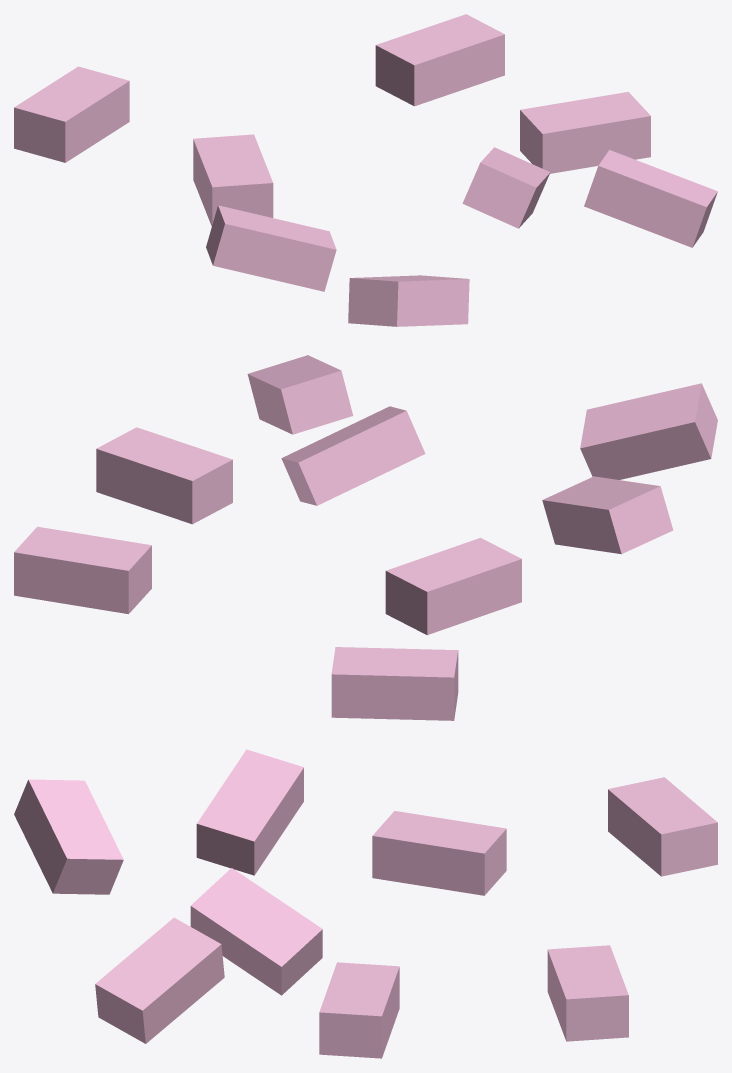
The picture shows the model from 3 angles, top to bottom: view 1: azimuth 30°, elevation 25°; view 2: azimuth 150°, elevation 25°; view 3: azimuth 270°, elevation 25°; orthographic projection. The views are drawn at different scales.
Parts seen in each view (by area): view 1: Object22; view 2: Object22; view 3: Object22.
Boxes of the visible parts, <box> form: Object22: <box>14,14,717,326</box>; Object22: <box>14,355,717,720</box>; Object22: <box>14,749,717,1058</box>.
Bounding box in the file's own units: 632 × 109 × 778.
